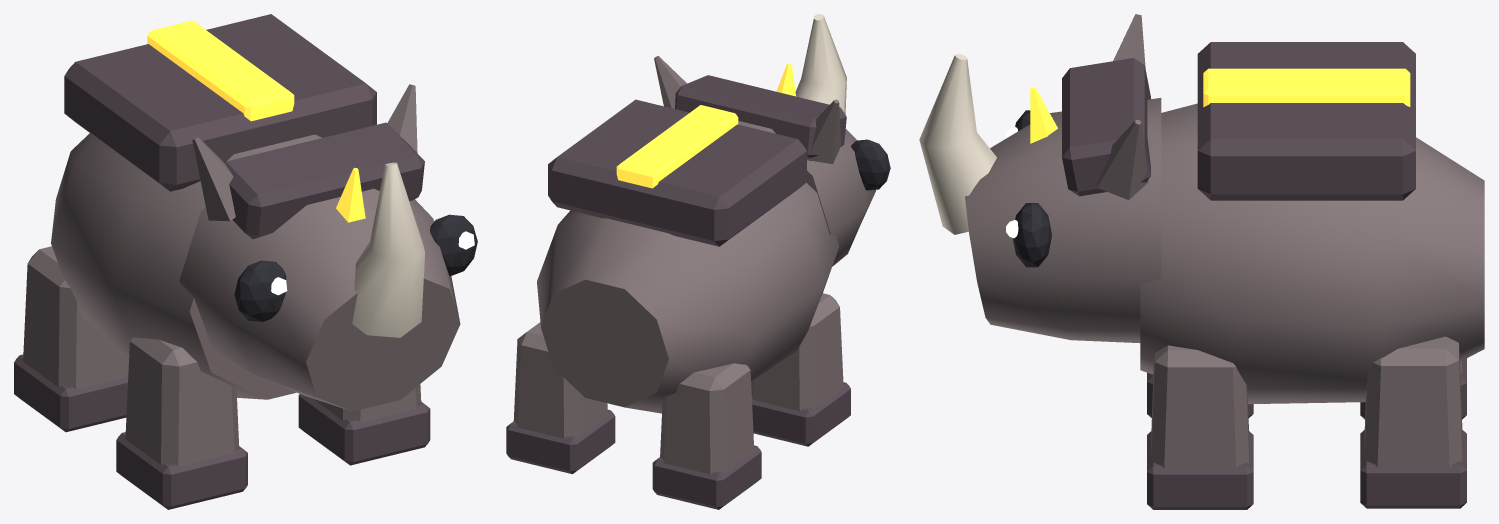
File: LavaRhino.glb
3 views of the same model, side by side, from view 1: azimuth 30°, elevation 25°; view 2: azimuth 150°, elevation 25°; view 3: azimuth 270°, elevation 25° (orthographic). The views are drawn at different scales.
Parts seen in each view (by area): view 1: LavaRhino; view 2: LavaRhino; view 3: LavaRhino.
Part boxes in pixels (x1,y1,x2,y2): LavaRhino: (14, 14, 477, 509); LavaRhino: (506, 14, 890, 509); LavaRhino: (919, 14, 1484, 509).
Size of the model in its own units: 2.08 by 2.67 by 3.5.
